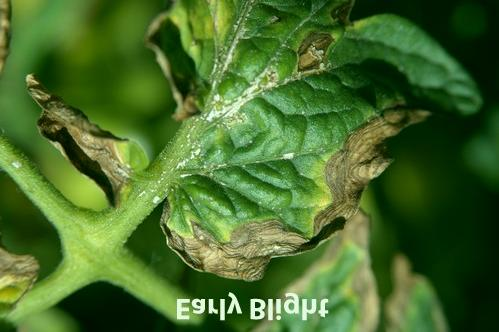Tomato Early blight leaf: (67, 5, 390, 277)
